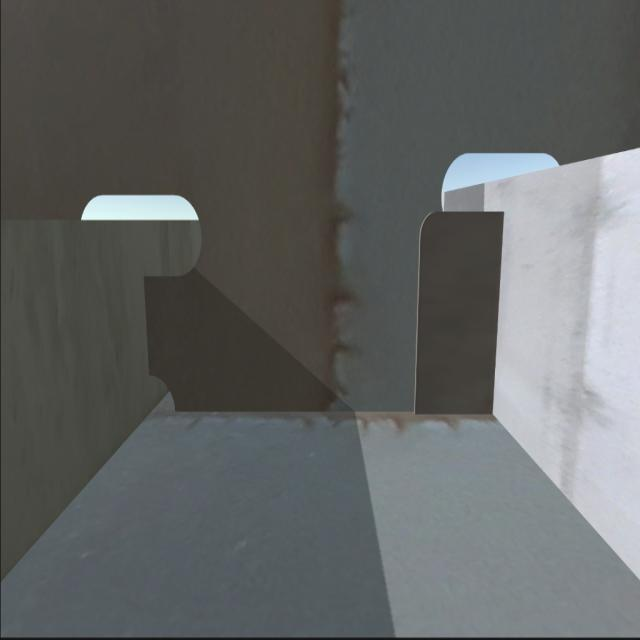fillet_hole: (147, 376, 177, 414)
fillet_yong_jeop_jang: (170, 401, 496, 426)
longi_yong_jeop_jang: (491, 211, 504, 424), (134, 276, 158, 374)
plate_CP05: (414, 209, 495, 411)
